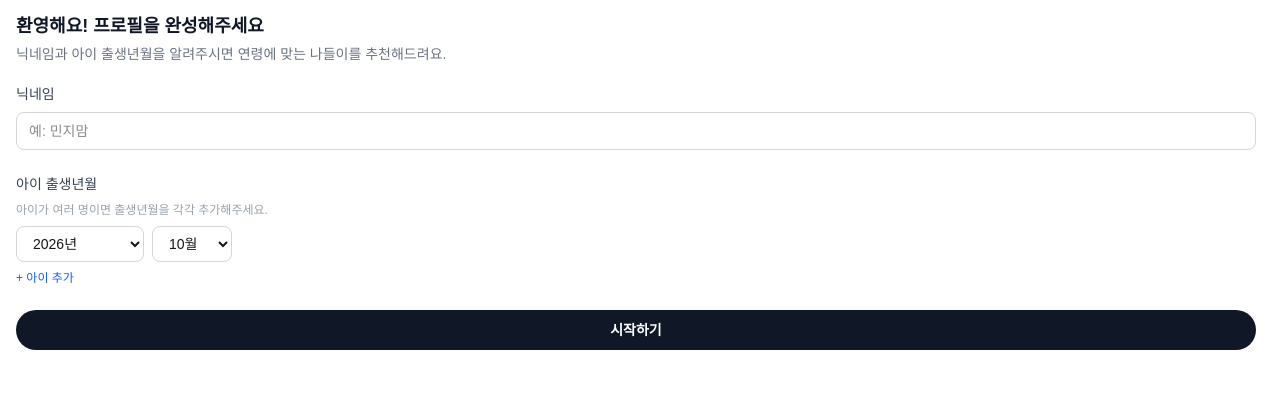
Test: CompleteProfileView › 닉네임을 비운 채 제출하면 저장하지 않고 에러 문구를 보여준다
Expected: the field labelled "닉네임" is shown, x1=16 y1=112 x2=1256 y2=150
Click the button "시작하기": (636, 330) x1=16 y1=310 x2=1256 y2=350
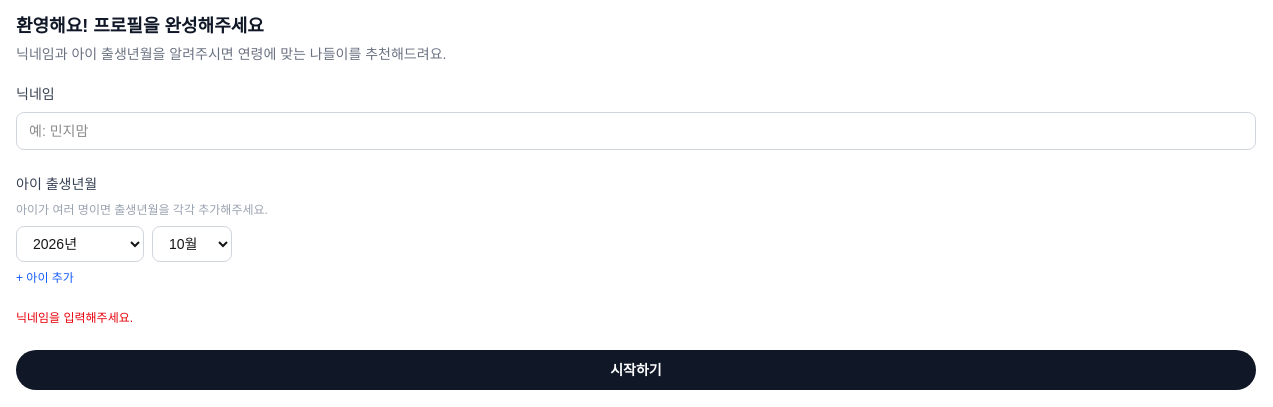
Result: the text "닉네임을 입력해주세요." is shown at x1=16 y1=311 x2=133 y2=325
